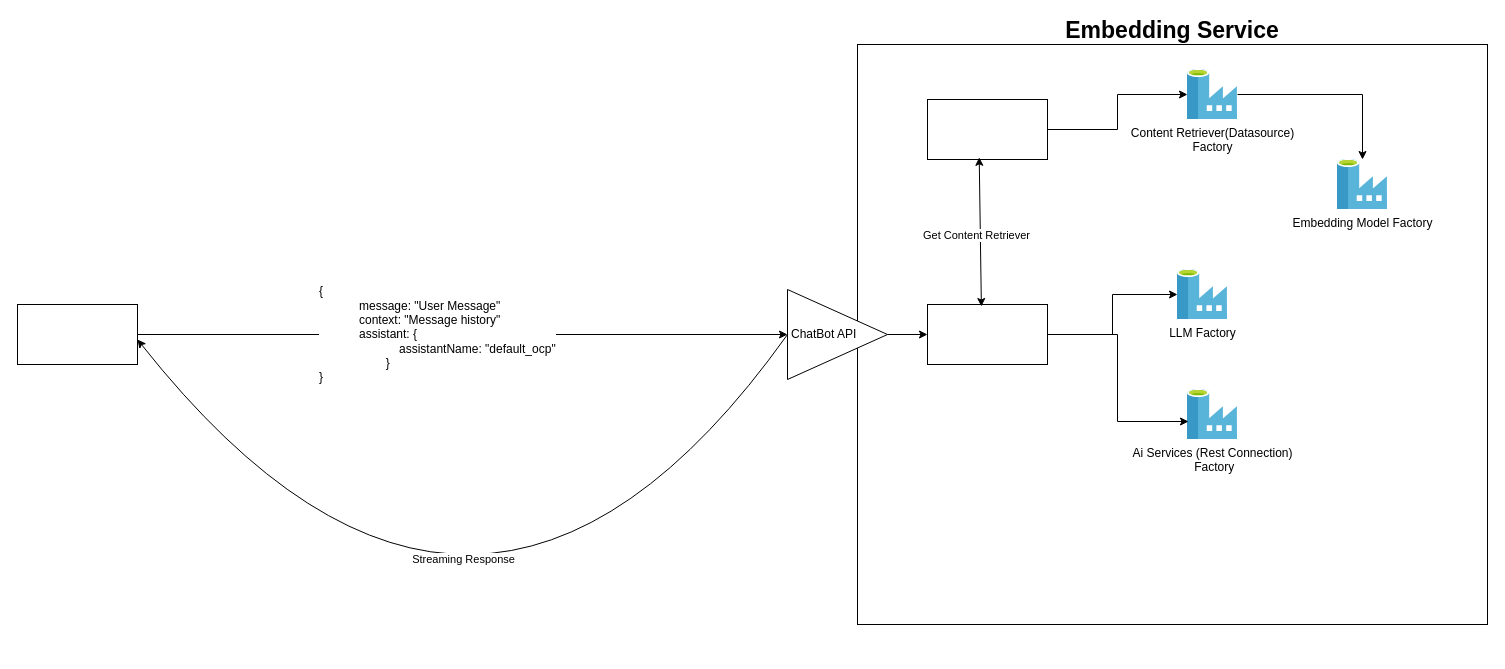
The diagram is 1505 pixels wide and 669 high, and some of its shapes have lost their labels. The shapes that lost their labels are listed below. From the top down, each one's centre as x and y in pixels, then its label:
the point at 987,129: Rag Service
the point at 77,334: Client
the point at 987,334: Chat Service
